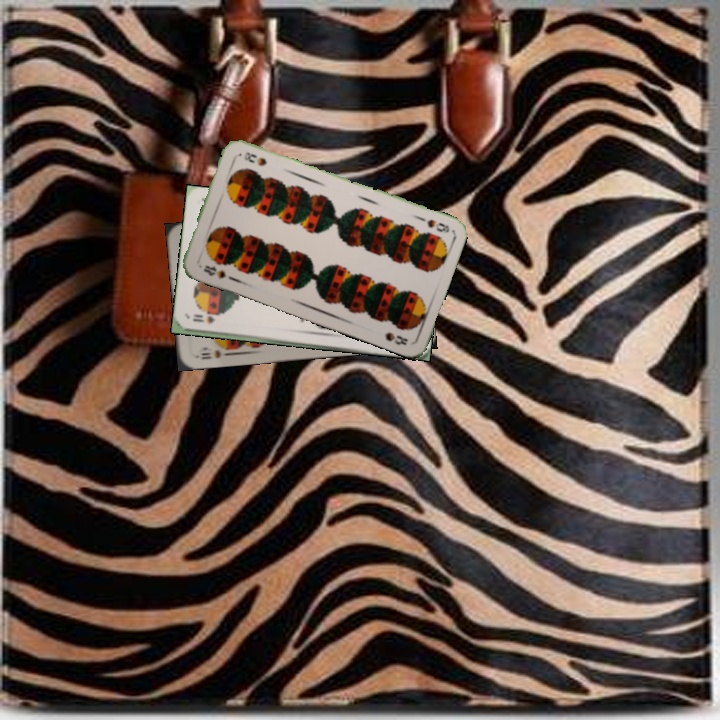S10: (197, 346, 232, 362)
S8: (414, 212, 452, 236), (200, 261, 229, 282)
SO: (189, 312, 218, 326)
